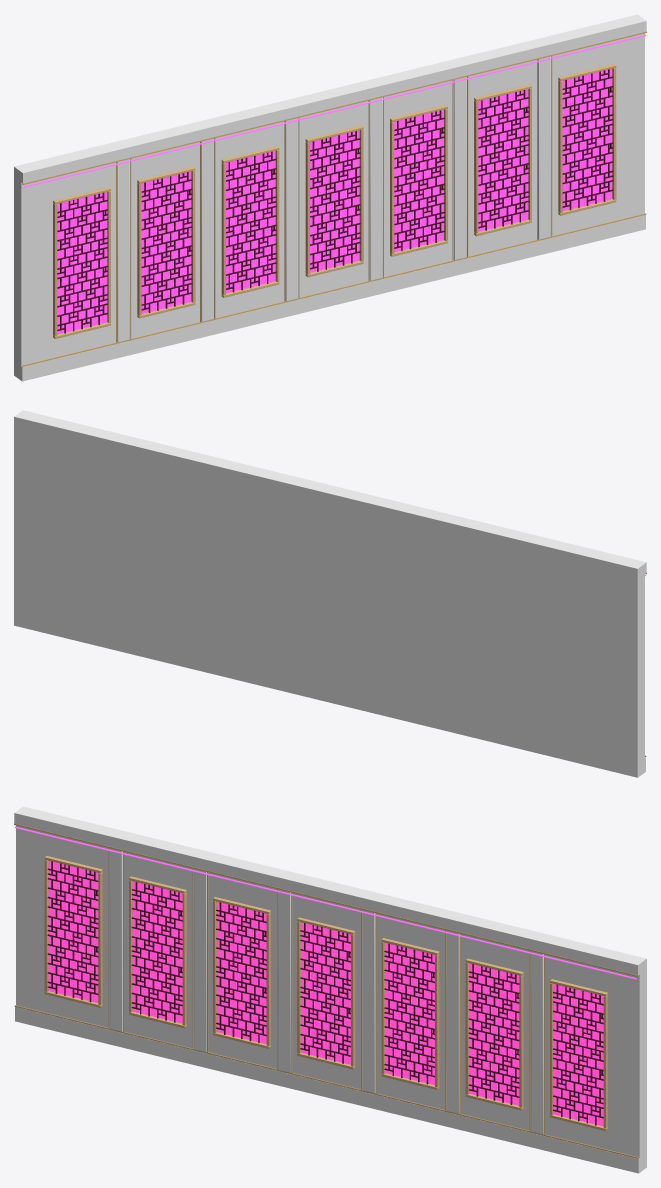
File: JAC_32_Parede_Fundo.glb
3 views of the same model, one above another, from view 1: azimuth 30°, elevation 25°; view 2: azimuth 150°, elevation 25°; view 3: azimuth 330°, elevation 25° (orthographic).
Parts seen in each view (by area): view 1: JAC_32_Parede_Fundo; view 2: JAC_32_Parede_Fundo; view 3: JAC_32_Parede_Fundo.
Part boxes in pixels (<box>): JAC_32_Parede_Fundo: <box>14,14,646,381</box>; JAC_32_Parede_Fundo: <box>14,410,646,777</box>; JAC_32_Parede_Fundo: <box>14,806,646,1173</box>.
Size of the model in its own units: 10 by 3.2 by 0.275.
